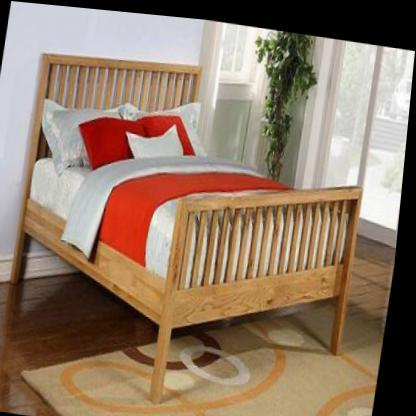Bed: (0, 39, 381, 416)
